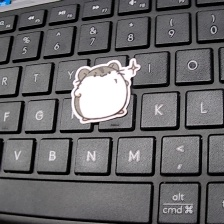mouse: (69, 58, 144, 123)
